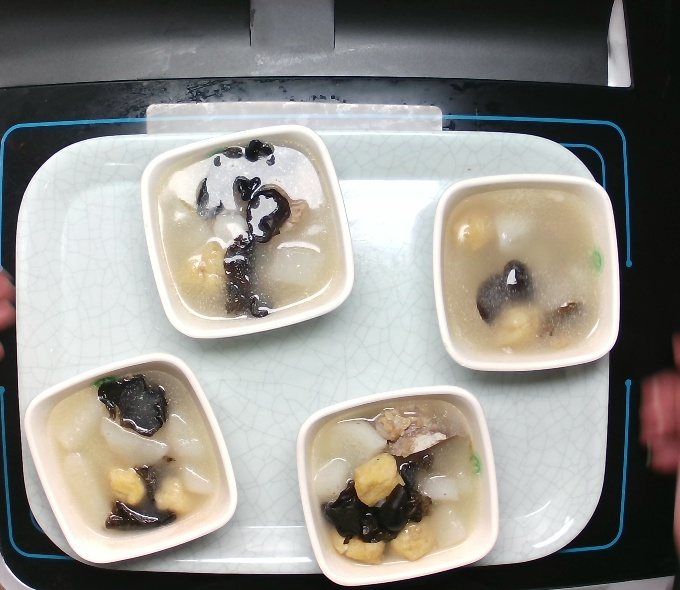wcq-ShanYaoTang: (154, 137, 348, 323), (42, 367, 226, 551), (306, 395, 493, 571), (440, 184, 616, 366)
